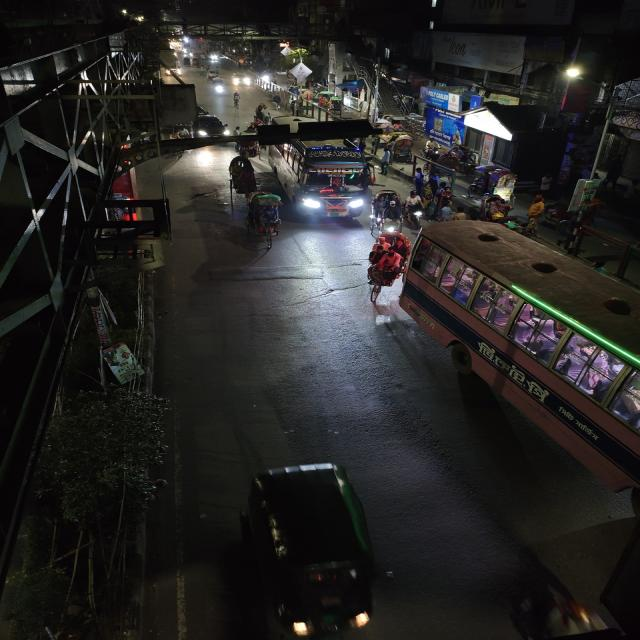bicycle: (226, 92, 248, 112)
bus: (400, 222, 640, 524), (276, 137, 374, 224)
car: (194, 112, 231, 144)
cng: (228, 455, 386, 640)
motorcycle: (403, 192, 426, 226)
pedestrian: (253, 103, 270, 125), (272, 93, 284, 111)
rickshaw: (358, 240, 408, 305), (241, 191, 286, 249), (225, 155, 261, 200), (369, 188, 404, 232), (389, 134, 415, 164)
